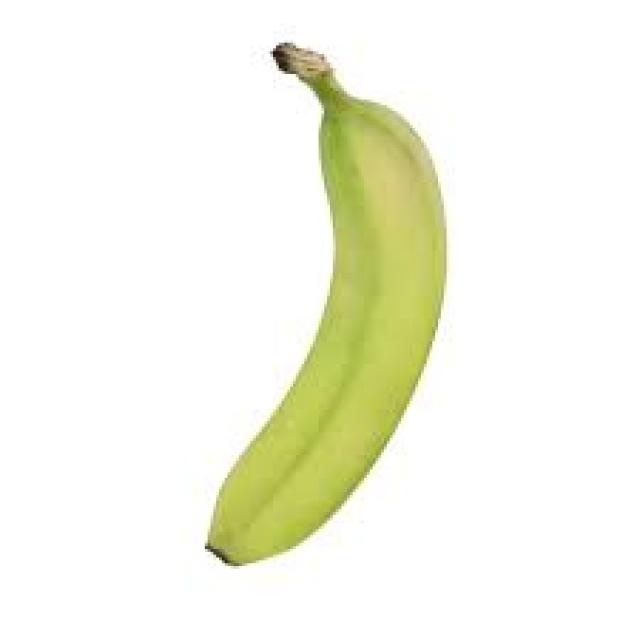agrume: (206, 38, 447, 570)
